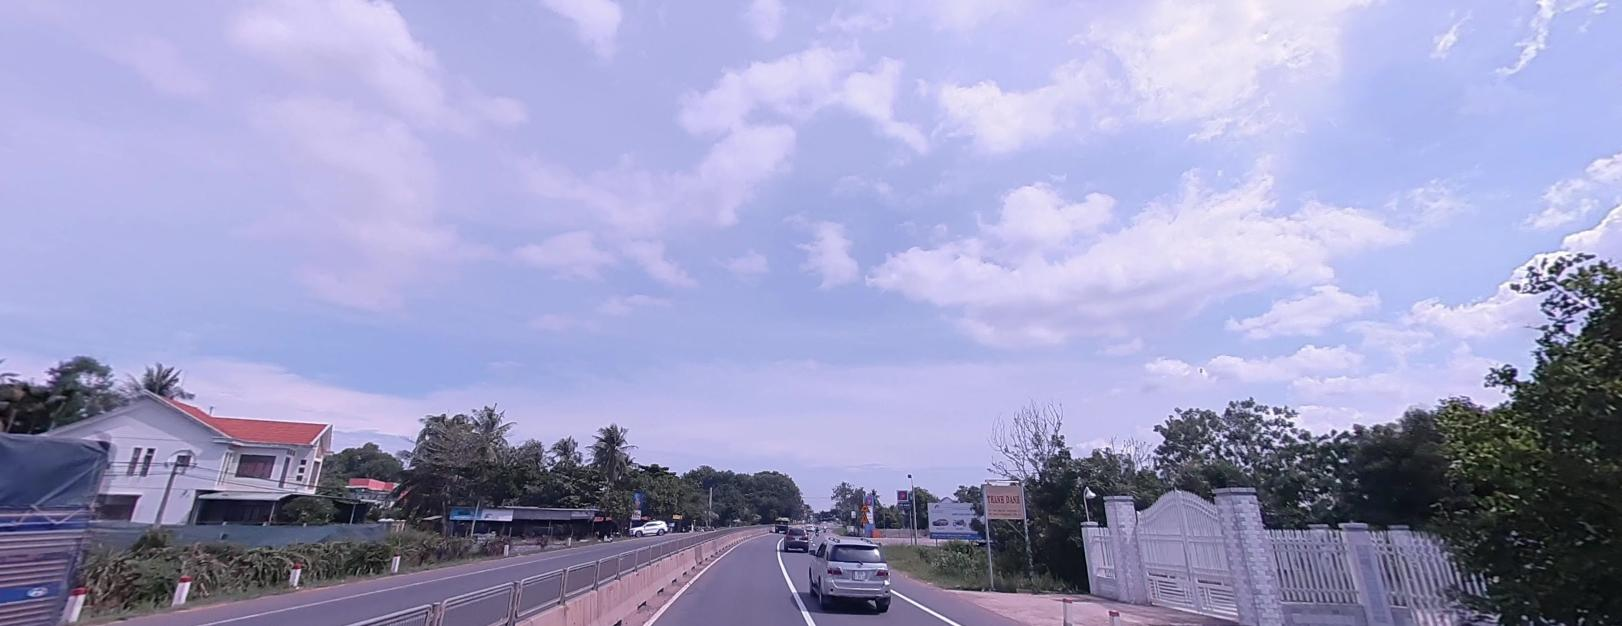Nguy hiem: (859, 512, 869, 521), (859, 503, 869, 511)
